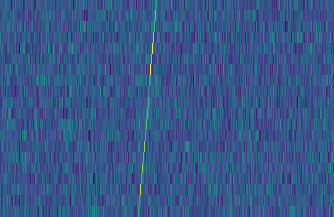signal: (133, 0, 160, 217)
